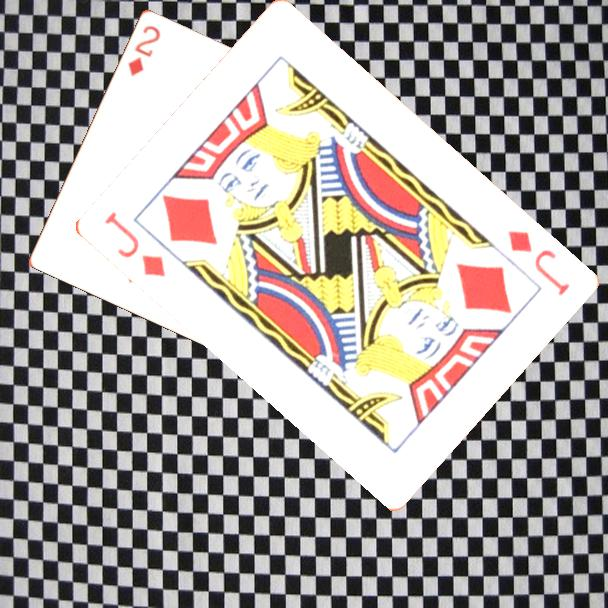d02: (124, 21, 163, 79)
d11: (503, 227, 573, 299), (100, 208, 168, 280)
